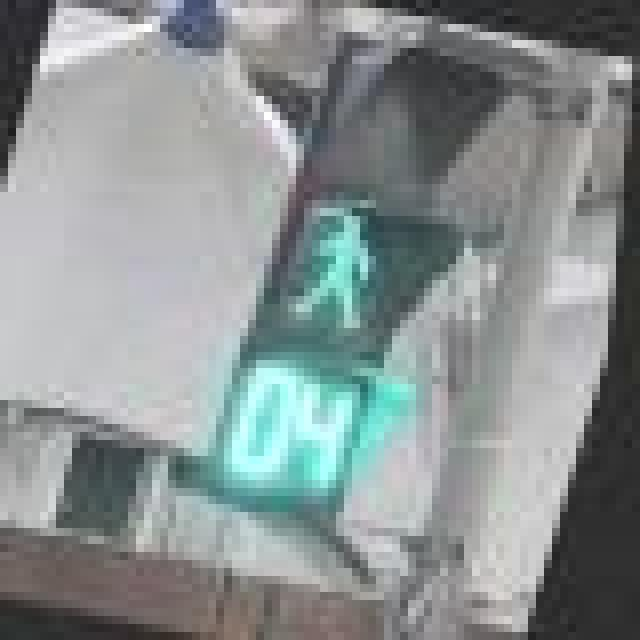greenlight: (240, 16, 624, 360)
